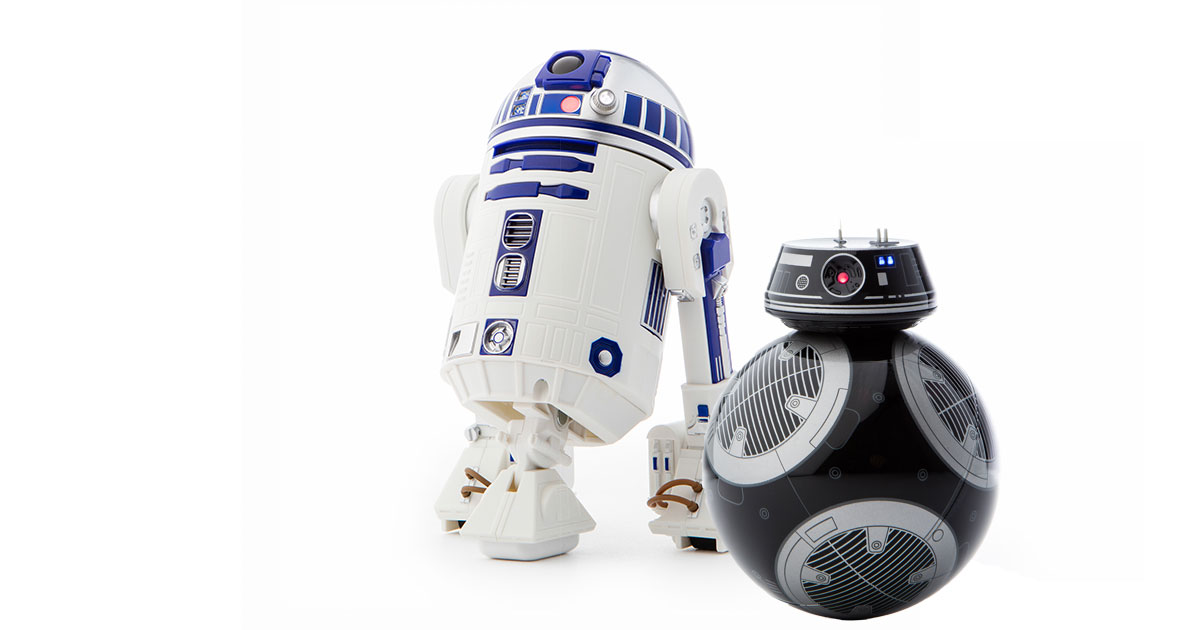r2d2: (437, 44, 714, 560)
